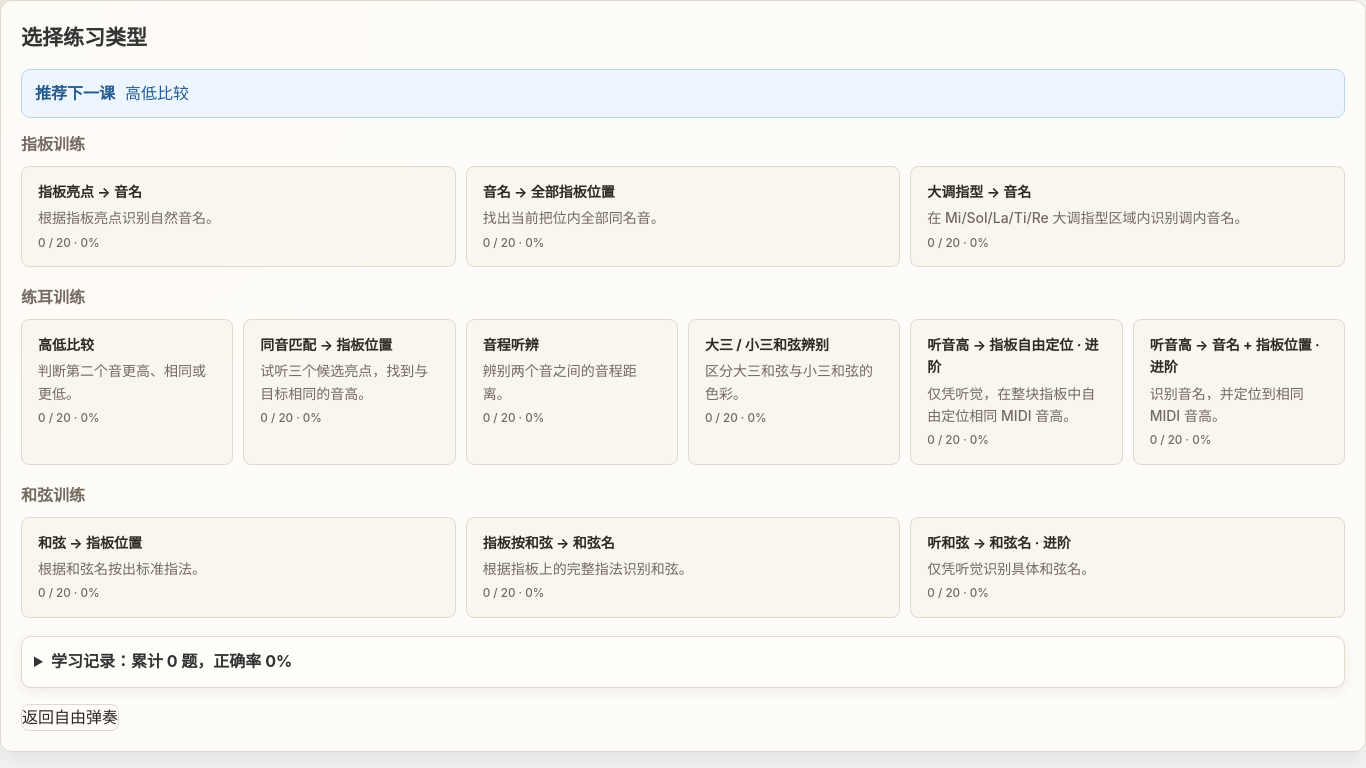
Scenario: PracticeMode › shows only three focused ranges for the all-position exercise
Click the button "音名 → 全部指板位置 找出当前把位内全部同名音。 0 / 20 · 0%": (549, 191) [466,166,900,267]
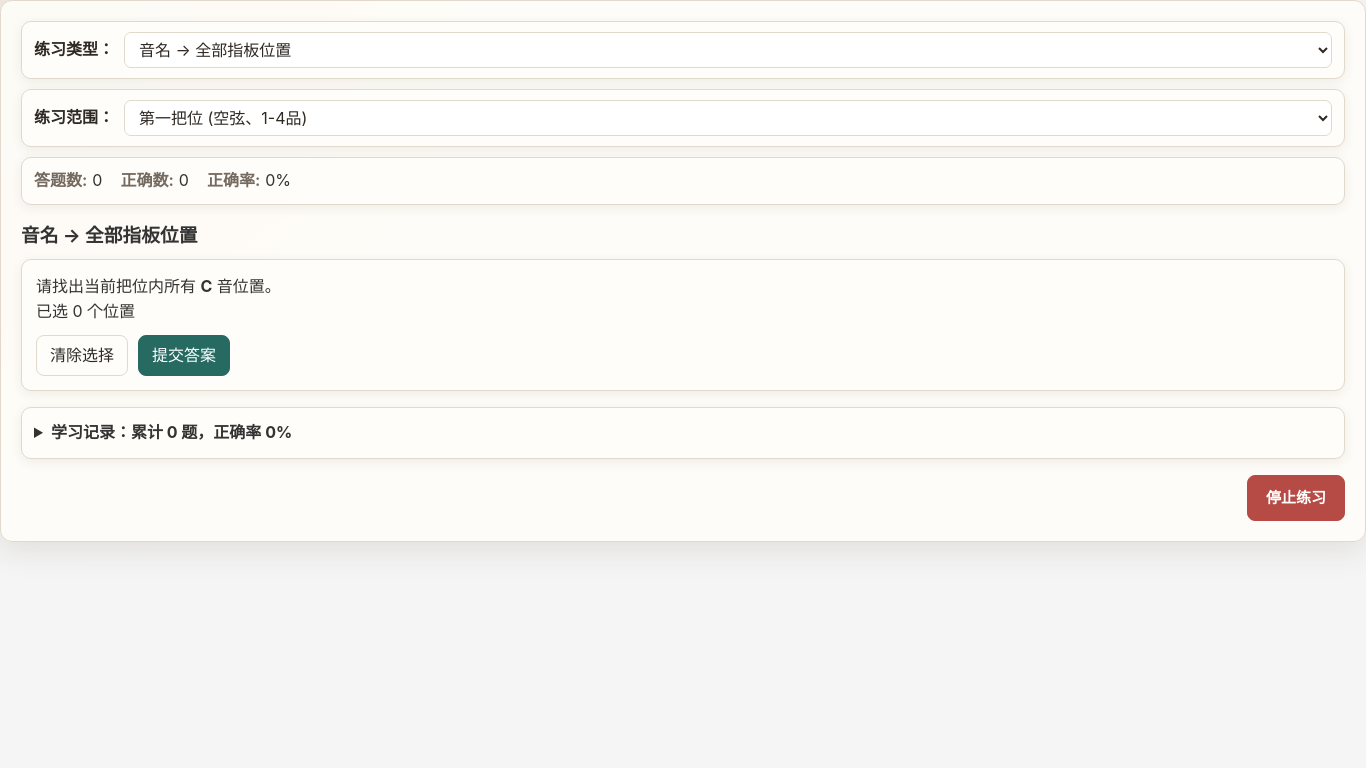
Now the dropdown labelled "练习范围：" shows "第一把位 (空弦、1-4品)", box [124,100,1332,136]
